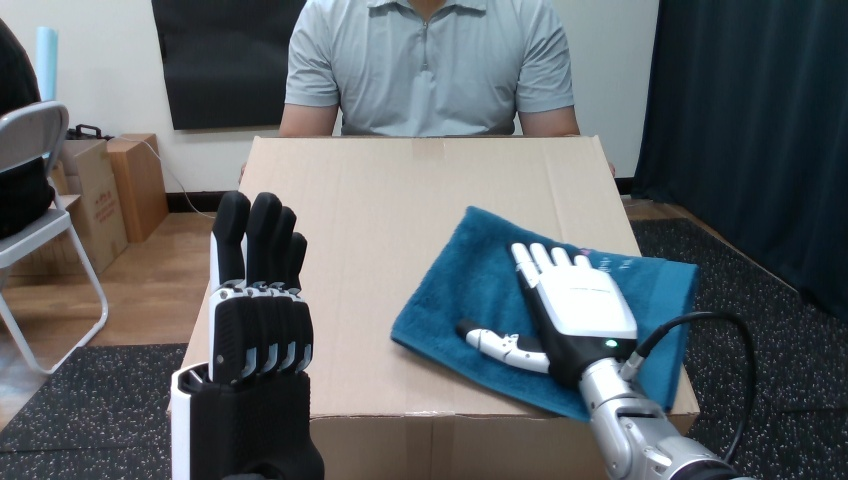left robot hand: (456, 242, 755, 479), (170, 192, 323, 479), (636, 318, 749, 459)
